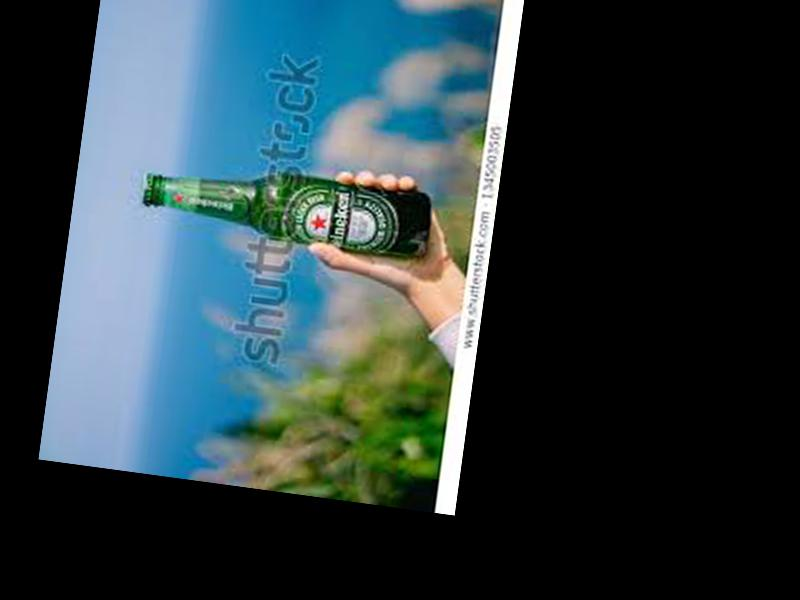Beer: (137, 155, 430, 264)
